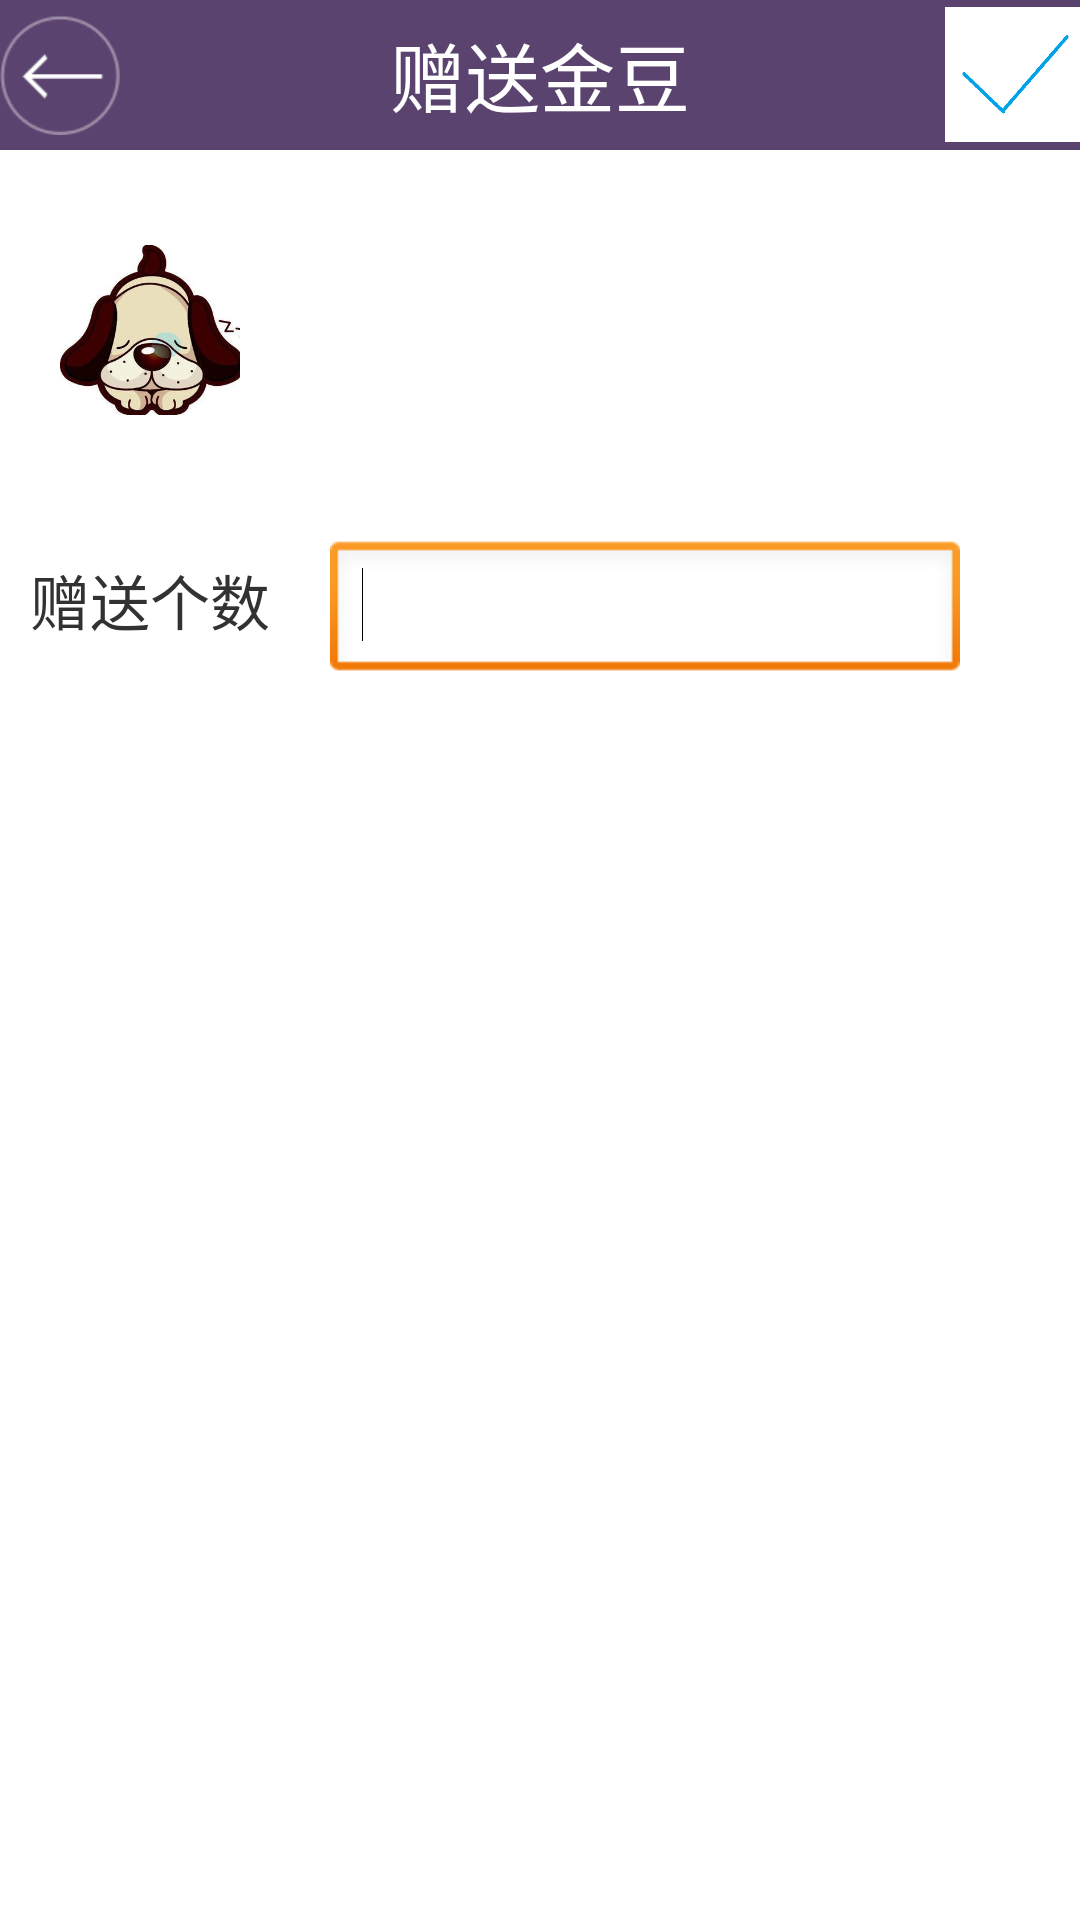

Locate icon controls on the screen. Image size 1080 x 1920, boxes as box=[x1, y1, x2, y2].
backtofriend: box=[0, 16, 120, 135]
yes: box=[945, 7, 1080, 142]
